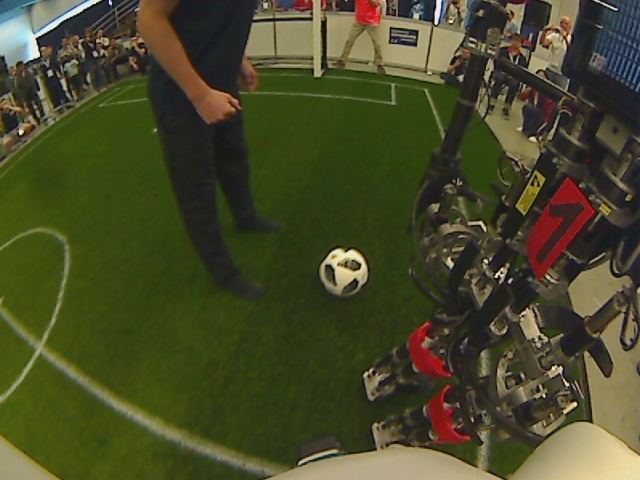ball: (318, 245, 370, 297)
